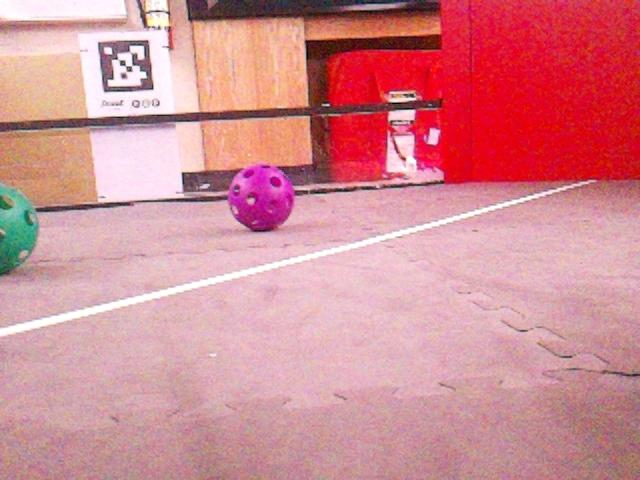Green: (0, 179, 40, 273)
Purple: (226, 162, 296, 231)
